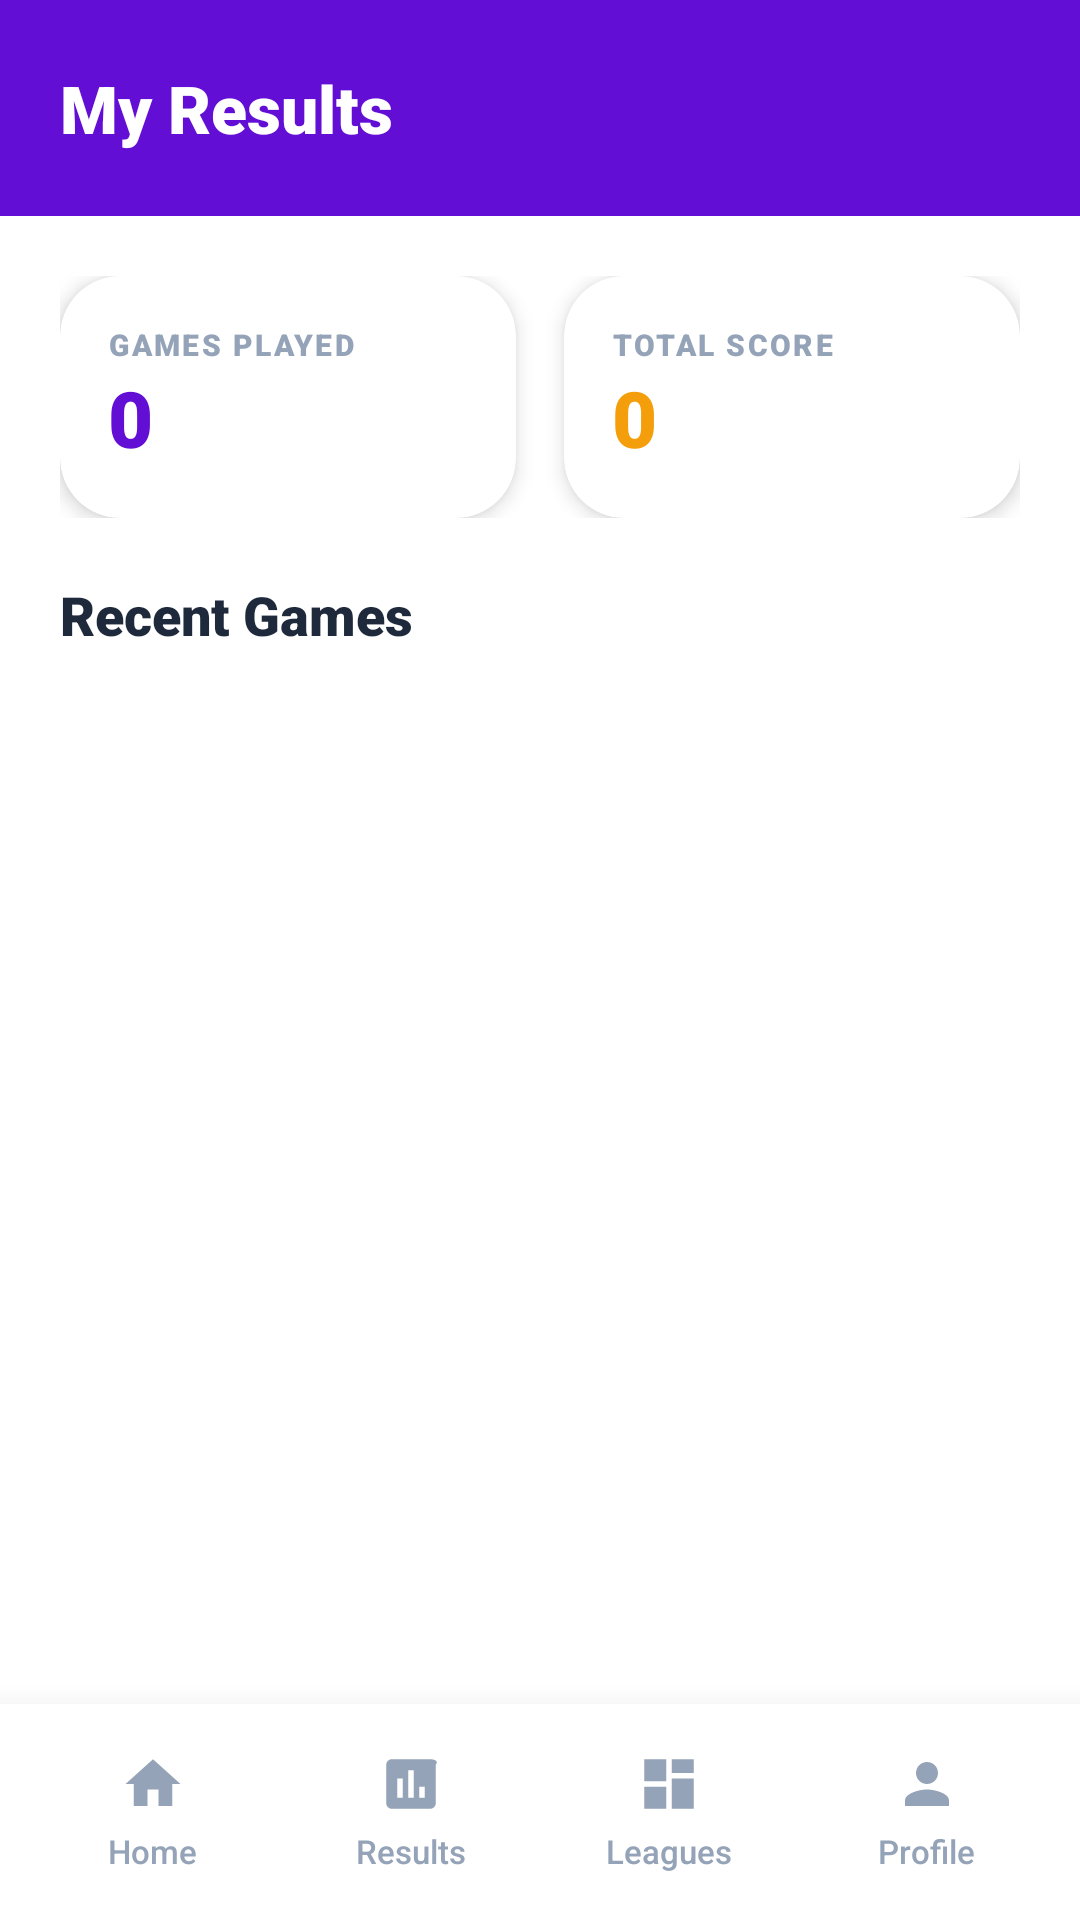

Locate icon controls on the screen. Image size 1080 × 1920, boxes as box(x1, y1, x2, y2).
analytics: box(386, 1759, 437, 1809)
person: box(905, 1762, 949, 1806)
